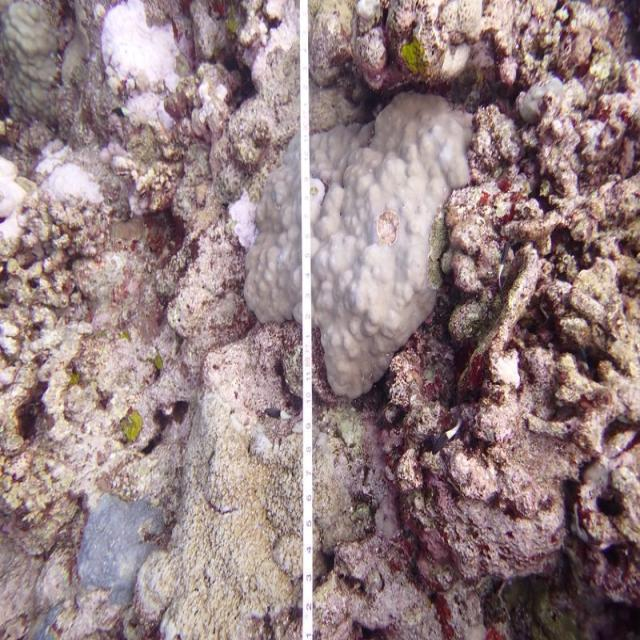Bleached Coral: (76, 0, 200, 152), (0, 141, 112, 267), (487, 328, 527, 411)
Healthy Coral: (248, 87, 478, 405)
